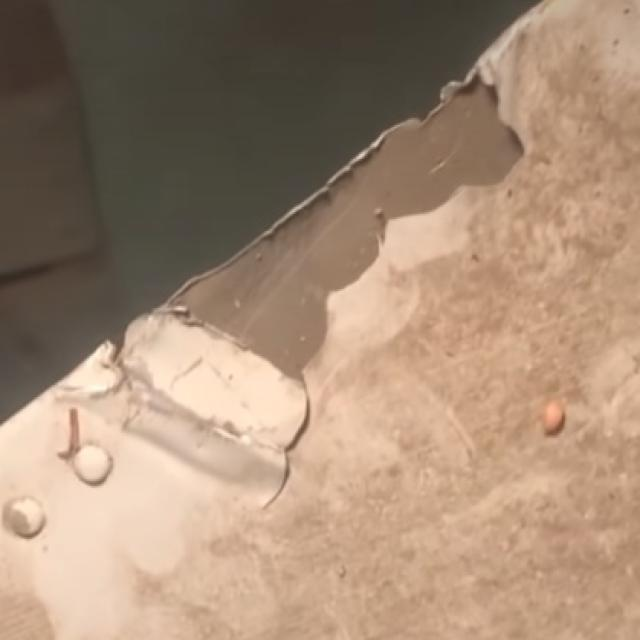crack: (236, 378, 325, 515)
